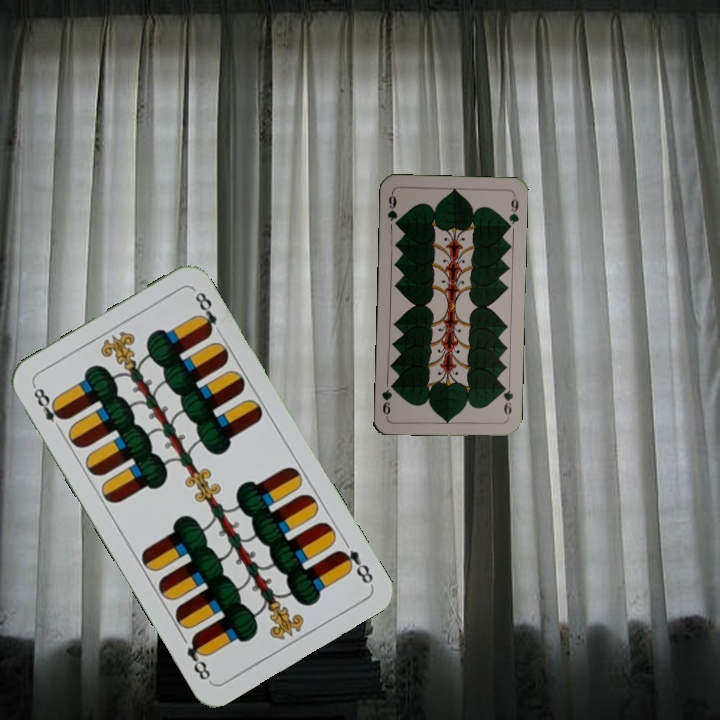E8: (28, 381, 68, 435), (333, 545, 377, 588)
G9: (383, 189, 402, 230), (498, 380, 515, 417)
